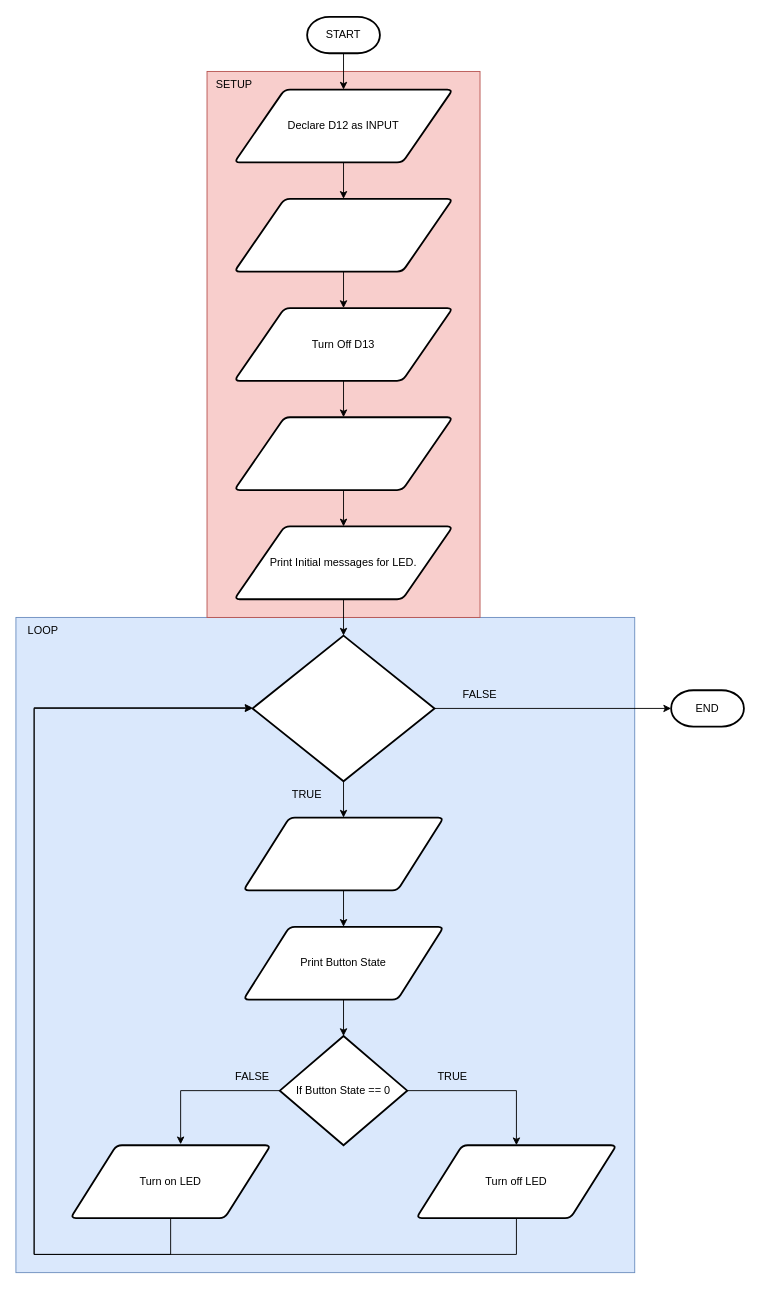
The diagram is 761 pixels wide and 1289 high, and some of its shapes have lost their labels. The centre of each missing label's shape, as x and y in pixels:
"Declare D13 as OUTPUT" goes at point (343, 234).
"Get Button Status" goes at point (343, 853).
"Print Initial messages for Button." goes at point (343, 453).
"Project Turned On?" goes at point (343, 708).
